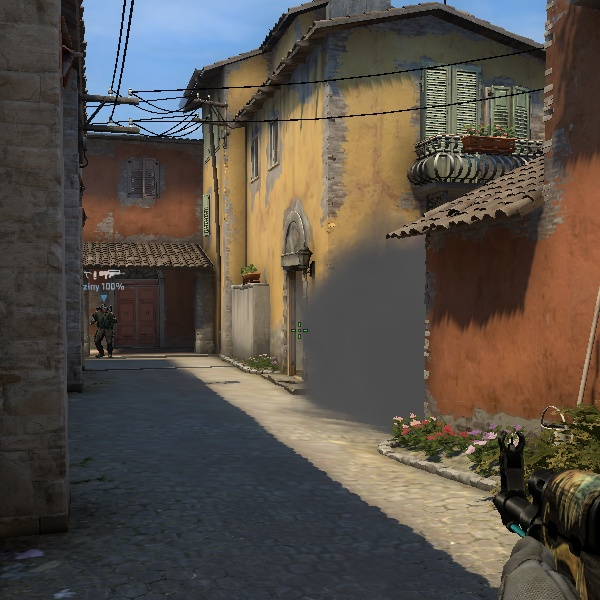ct_body: (88, 299, 119, 358)
